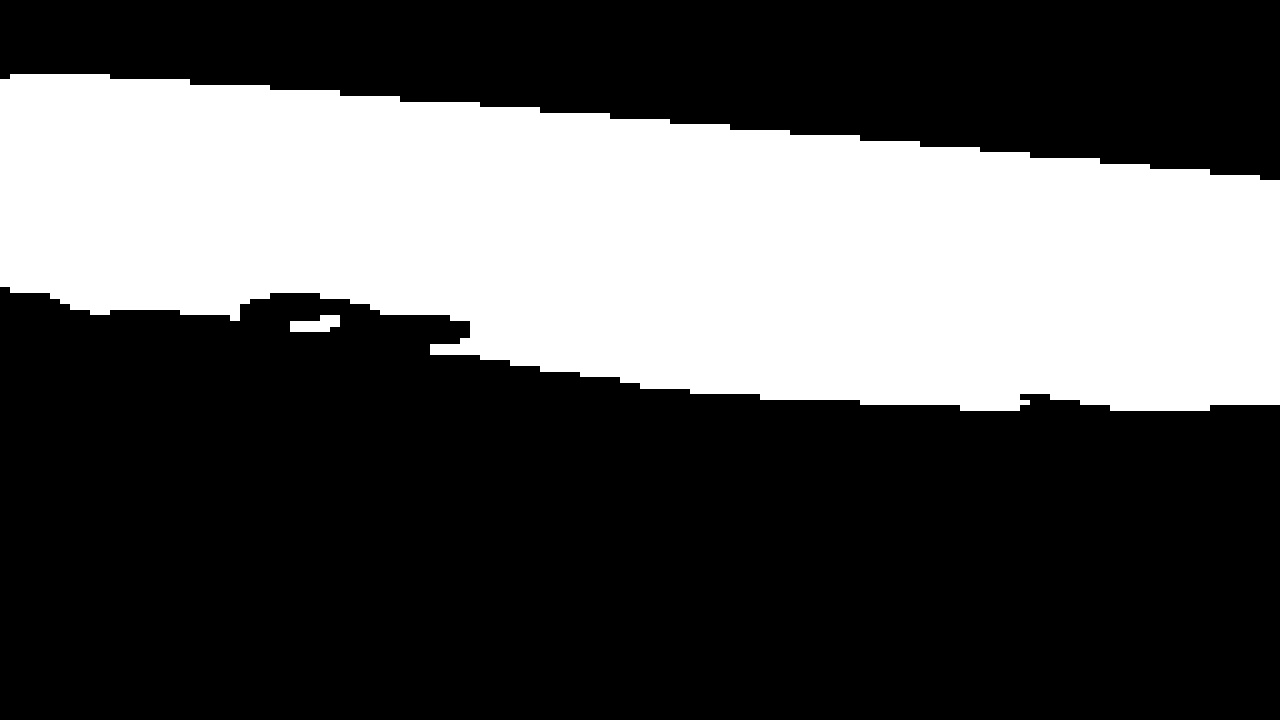Turbine: (9, 48, 1272, 453)
